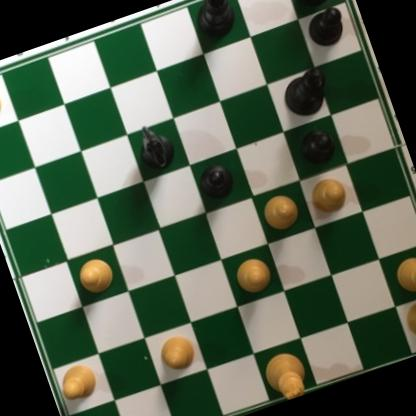black-bishop: (187, 0, 237, 46)
black-king: (274, 62, 339, 123)
black-knight: (127, 115, 181, 178)
black-pawn: (301, 2, 351, 51), (295, 125, 340, 169), (193, 159, 237, 203)
black-rook: (279, 0, 343, 15)
white-king: (258, 347, 313, 405)
white-pawn: (52, 356, 103, 407), (72, 251, 122, 301), (257, 188, 307, 237), (304, 170, 353, 219), (229, 250, 277, 300), (152, 330, 201, 377), (388, 249, 416, 299)
white-rook: (398, 288, 416, 351), (0, 67, 7, 132)
